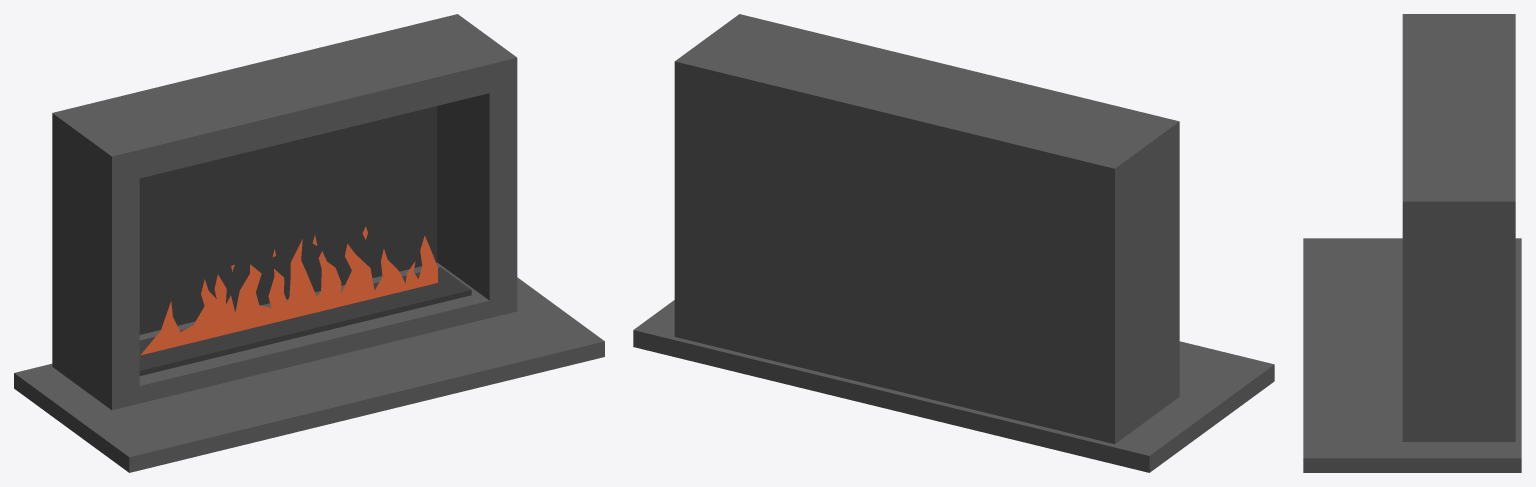
File: tv_wall_025.glb
The picture shows the model from 3 angles, left to right: view 1: azimuth 30°, elevation 25°; view 2: azimuth 150°, elevation 25°; view 3: azimuth 270°, elevation 25°; orthographic projection. The views are drawn at different scales.
Visible parts, largest first — view 1: tv_wall_025; view 2: tv_wall_025; view 3: tv_wall_025.
Boxes of the visible parts, box(x1,y1,x2,y2) form: tv_wall_025: box(14, 14, 604, 472); tv_wall_025: box(633, 14, 1274, 472); tv_wall_025: box(1303, 14, 1521, 472).
Bounding box in the file's own units: 1.27 × 0.6902 × 0.5354.
1 material, 1 textured.
